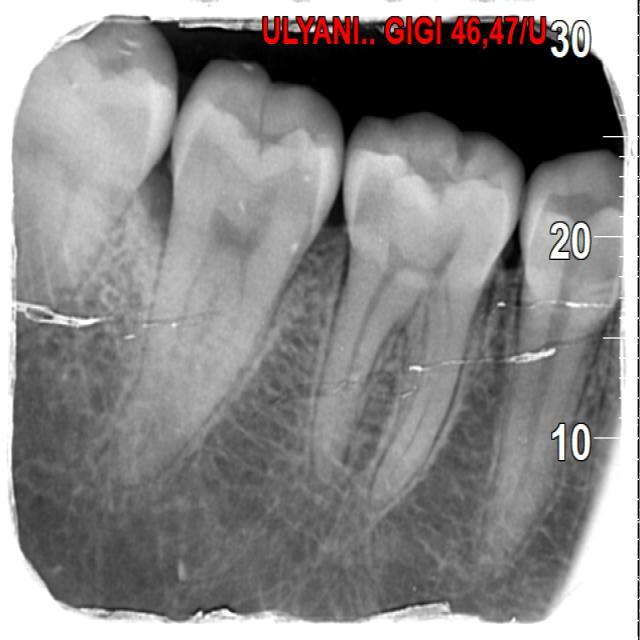individual-tooth-8tto: (112, 57, 355, 473), (302, 113, 524, 505)
